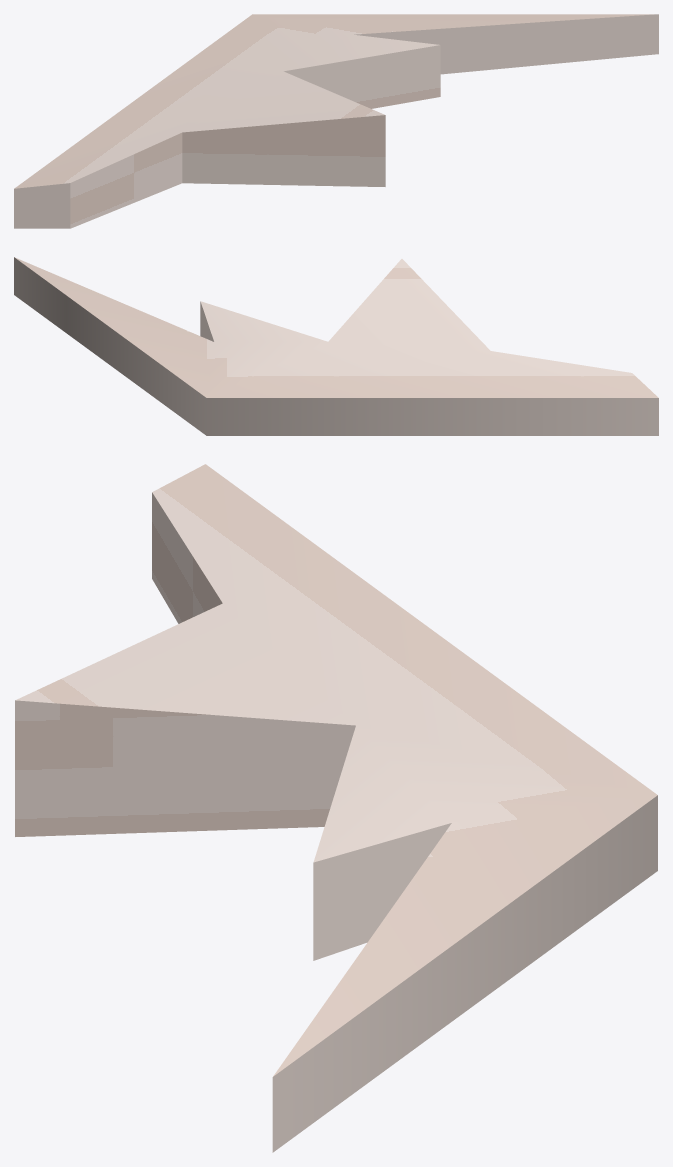
Rendered from wine_glass_gib_06.glb.
3 views of the same model, one above another, from view 1: azimuth 30°, elevation 25°; view 2: azimuth 150°, elevation 25°; view 3: azimuth 270°, elevation 25° (orthographic). The views are drawn at different scales.
Visible parts, largest first — view 1: gib_06; view 2: gib_06; view 3: gib_06.
Boxes of the visible parts, x1,y1,x2,y2 form: gib_06: (14, 14, 658, 228); gib_06: (14, 257, 658, 435); gib_06: (15, 464, 657, 1152).
Bounding box in the file's own units: 0.2886 × 0.03 × 0.1279.
1 material, 1 textured.
